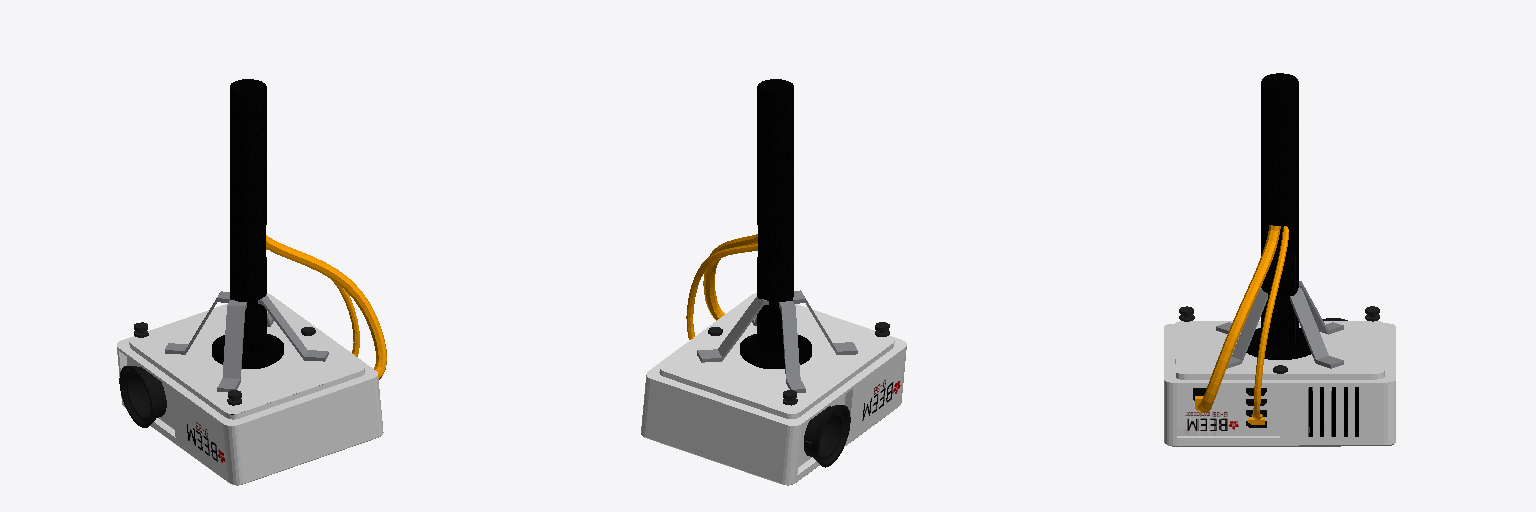
3 renders of one model, left to right at view 1: azimuth 30°, elevation 25°; view 2: azimuth 150°, elevation 25°; view 3: azimuth 270°, elevation 25°, orthographic.
Parts seen in each view (by area): view 1: Main_Case, Pole, Pole_leg, Cable_1, Lens; view 2: Main_Case, Pole, Pole_leg, Lens, Cable_1, Cable_2; view 3: Main_Case, Pole, Pole_leg, Cable_1, Cable_2.
Boxes of the visible parts, x1,y1,x2,y2 form: Main_Case: [117, 293, 383, 485]; Pole: [212, 79, 283, 368]; Pole_leg: [165, 291, 328, 391]; Cable_1: [266, 235, 386, 379]; Lens: [119, 366, 166, 427]; Main_Case: [641, 293, 906, 485]; Pole: [740, 79, 811, 368]; Pole_leg: [697, 290, 857, 392]; Lens: [804, 405, 850, 467]; Cable_1: [703, 234, 757, 320]; Cable_2: [686, 244, 757, 339]; Main_Case: [1164, 321, 1395, 446]; Pole: [1246, 73, 1311, 359]; Pole_leg: [1216, 281, 1343, 368]; Cable_1: [1197, 225, 1280, 412]; Cable_2: [1251, 226, 1288, 420].
Bounding box in the file's own units: 2.02 × 3.45 × 2.13.
1 materials, 1 textured.